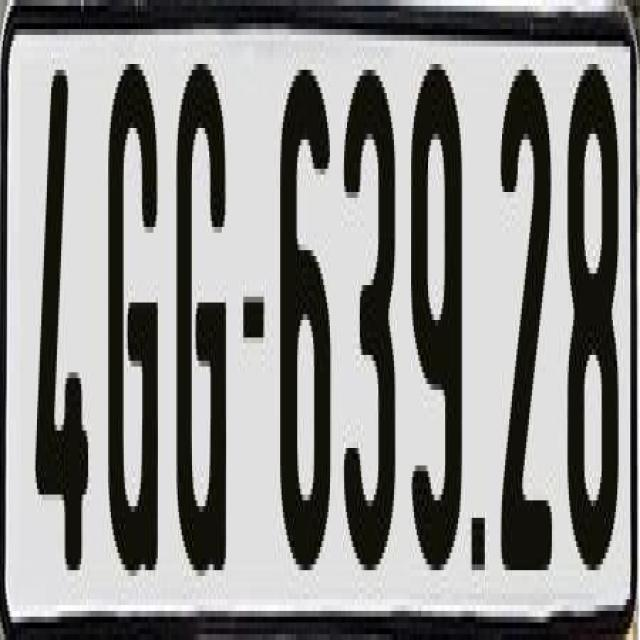2: (499, 70, 559, 582)
3: (341, 70, 401, 606)
4: (32, 70, 86, 570)
6: (278, 70, 328, 606)
8: (564, 63, 614, 600)
9: (411, 46, 468, 576)
G: (172, 58, 222, 605), (105, 52, 155, 594)
